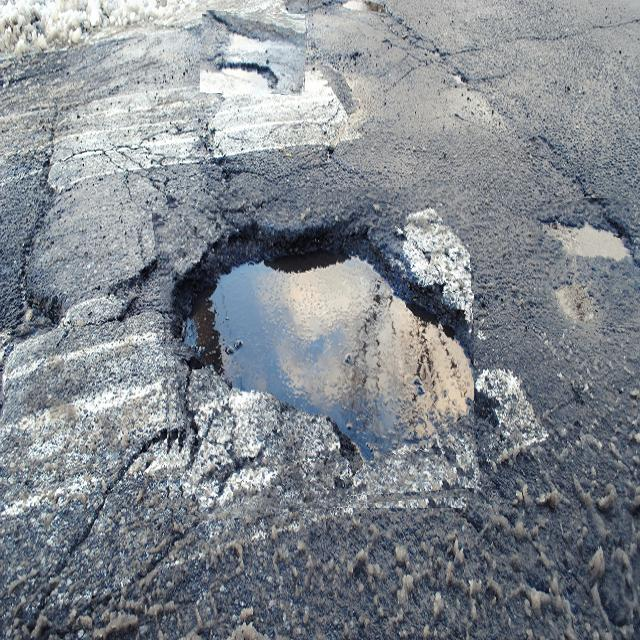Pothole: (159, 187, 474, 516), (532, 198, 634, 330), (200, 12, 306, 94)
